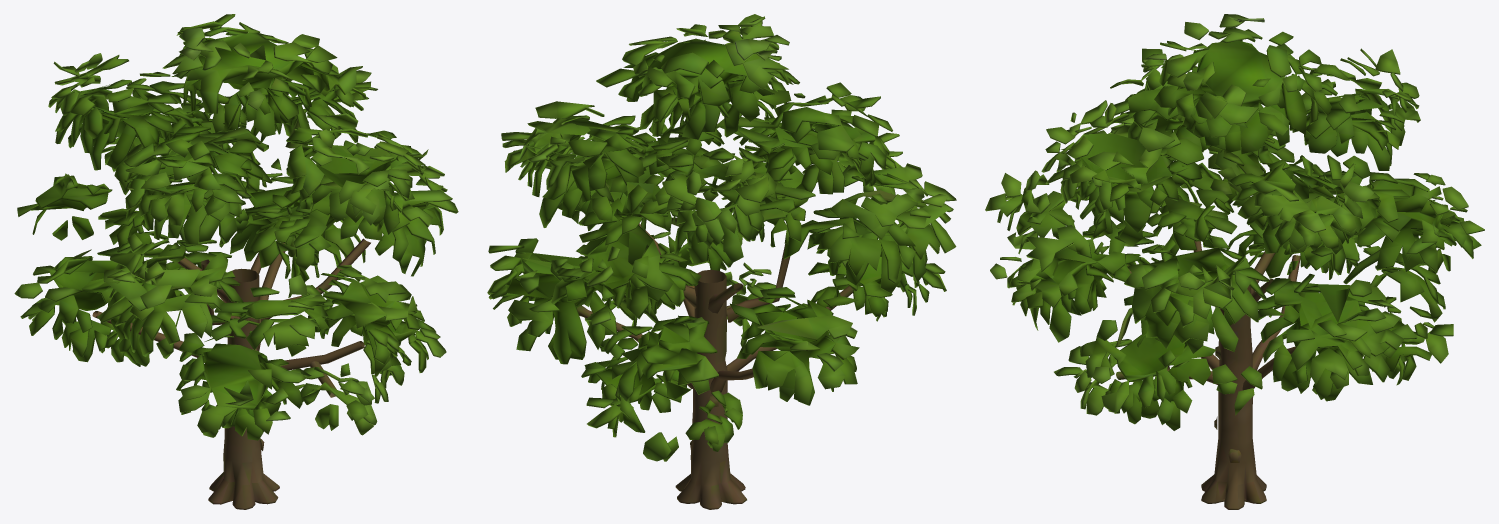
The model's file is arvore_folhosa.glb.
The picture shows the model from 3 angles, left to right: view 1: azimuth 30°, elevation 25°; view 2: azimuth 150°, elevation 25°; view 3: azimuth 270°, elevation 25°; orthographic projection.
Visible parts, largest first — view 1: tripo_node_dcbf3b8c-5c3d-4b64-8f26-ac135132f26a; view 2: tripo_node_dcbf3b8c-5c3d-4b64-8f26-ac135132f26a; view 3: tripo_node_dcbf3b8c-5c3d-4b64-8f26-ac135132f26a.
Boxes of the visible parts, bbox=[...] form: tripo_node_dcbf3b8c-5c3d-4b64-8f26-ac135132f26a: bbox=[14, 14, 458, 509]; tripo_node_dcbf3b8c-5c3d-4b64-8f26-ac135132f26a: bbox=[487, 14, 956, 509]; tripo_node_dcbf3b8c-5c3d-4b64-8f26-ac135132f26a: bbox=[985, 14, 1484, 509].
Bounding box in the file's own units: 0.8415 × 0.9922 × 0.9726.
Materials: 1 (1 with a texture image).
